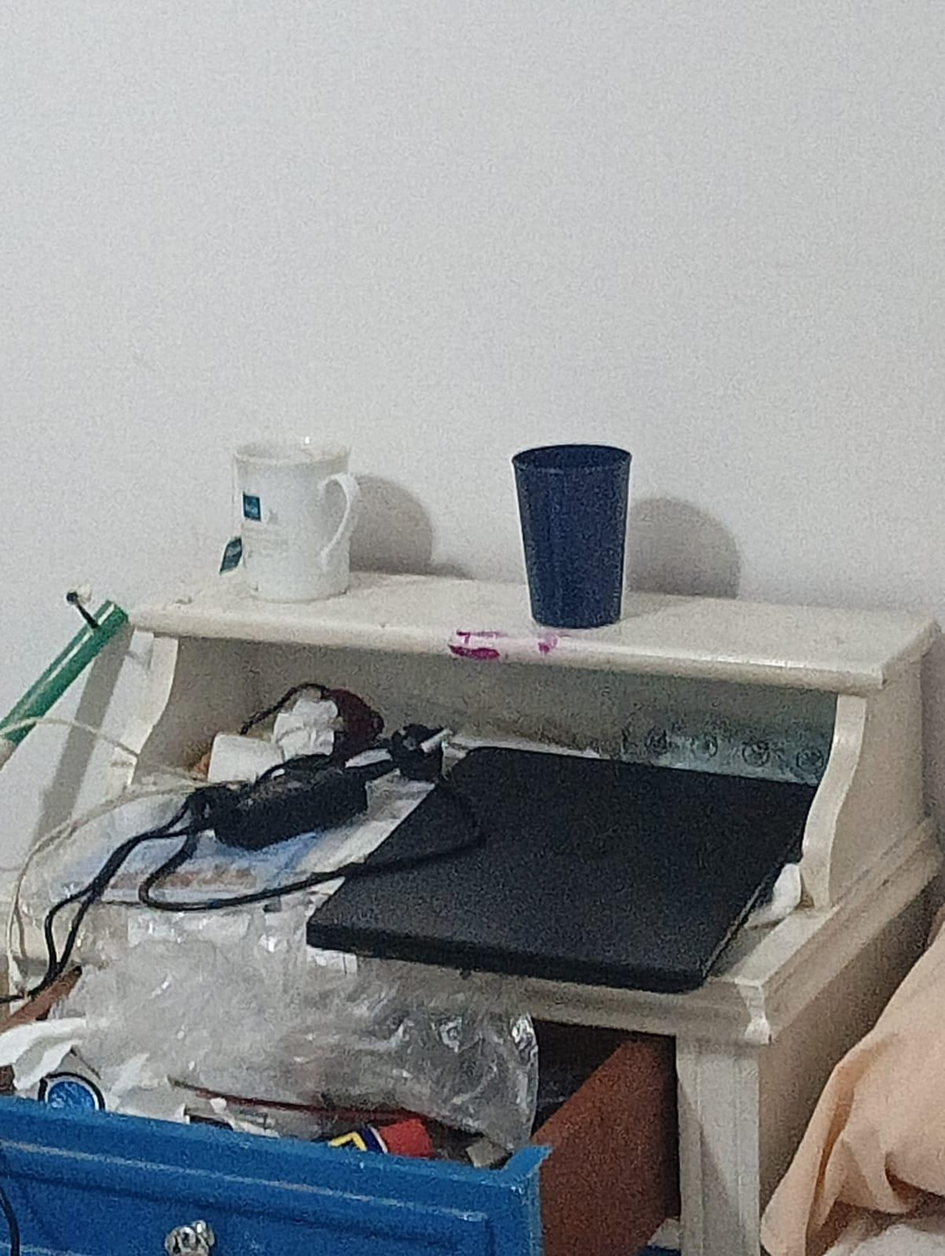cup: (513, 445, 630, 627), (235, 440, 359, 601)
